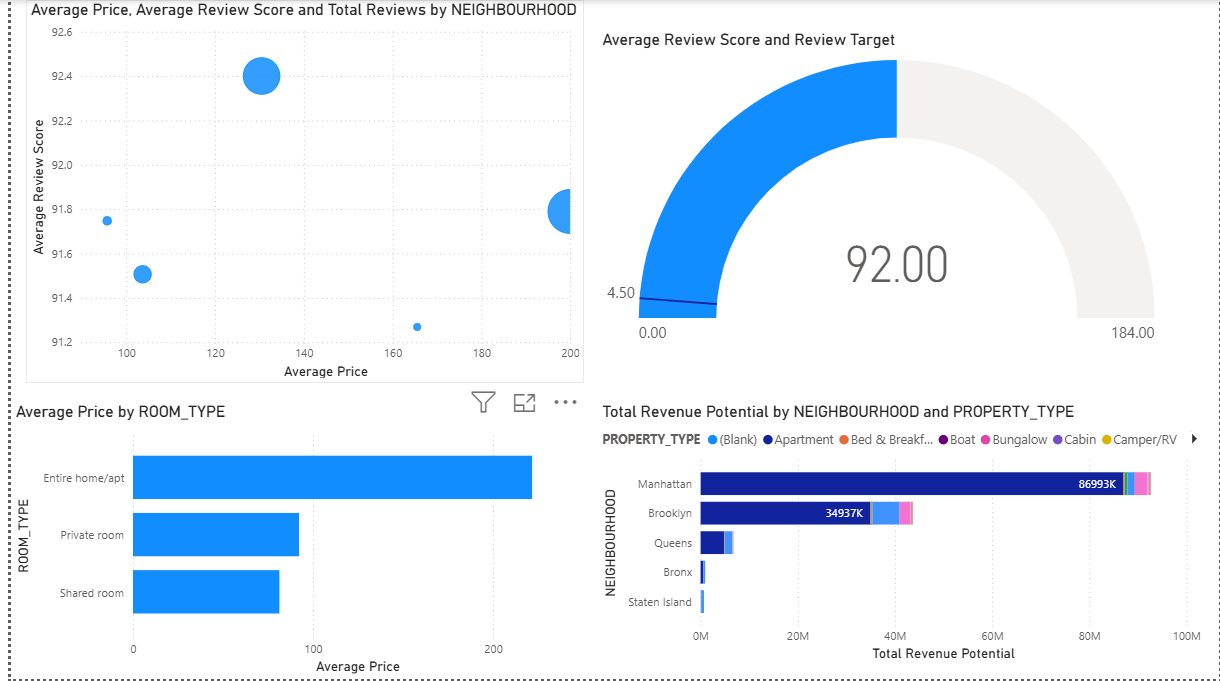

This screenshot's page, from the dashboard's own definition file:
{"tool":"powerbi","page":{"name":"Neighbourhood, Property and room type","canvas":[1280,720],"ordinal":2},"visuals":[{"type":"barChart","fields":{"Category":["DIMPROPERTY.BEDS","DIMPROPERTY.ROOM_TYPE"],"Y":["Metrics.Average Price"]},"box":[0,426.2,621.4,292.8],"z":1},{"type":"gauge","fields":{"Y":["Metrics.Average Review Score"],"TargetValue":["Metrics.Review Target"]},"box":[621.4,31.9,595.5,348.6],"z":3},{"type":"barChart","fields":{"Category":["DIMLOCATION.NEIGHBOURHOOD"],"Y":["Metrics.Total Revenue Potential"],"Series":["DIMPROPERTY.PROPERTY_TYPE"]},"box":[621.4,426.2,645.3,278.8],"z":4},{"type":"scatterChart","fields":{"Category":["DIMLOCATION.NEIGHBOURHOOD"],"X":["Metrics.Average Price"],"Y":["Metrics.Average Review Score"],"Size":["Metrics.Total Reviews"]},"box":[15.9,0,591.7,405.6],"z":5}]}

Visuals, with their boxes in screenshot pixels (x1, y1, x2, y2), scaled from the page's 1280x720 canvas onto the 1220x681 screenshot:
barChart - DIMPROPERTY.BEDS x DIMPROPERTY.ROOM_TYPE: 0 403 592 680
gauge - Metrics.Average Review Score x Metrics.Review Target: 592 30 1160 360
barChart - DIMLOCATION.NEIGHBOURHOOD x Metrics.Total Revenue Potential: 592 403 1207 667
scatterChart - DIMLOCATION.NEIGHBOURHOOD x Metrics.Average Price: 15 0 579 384
